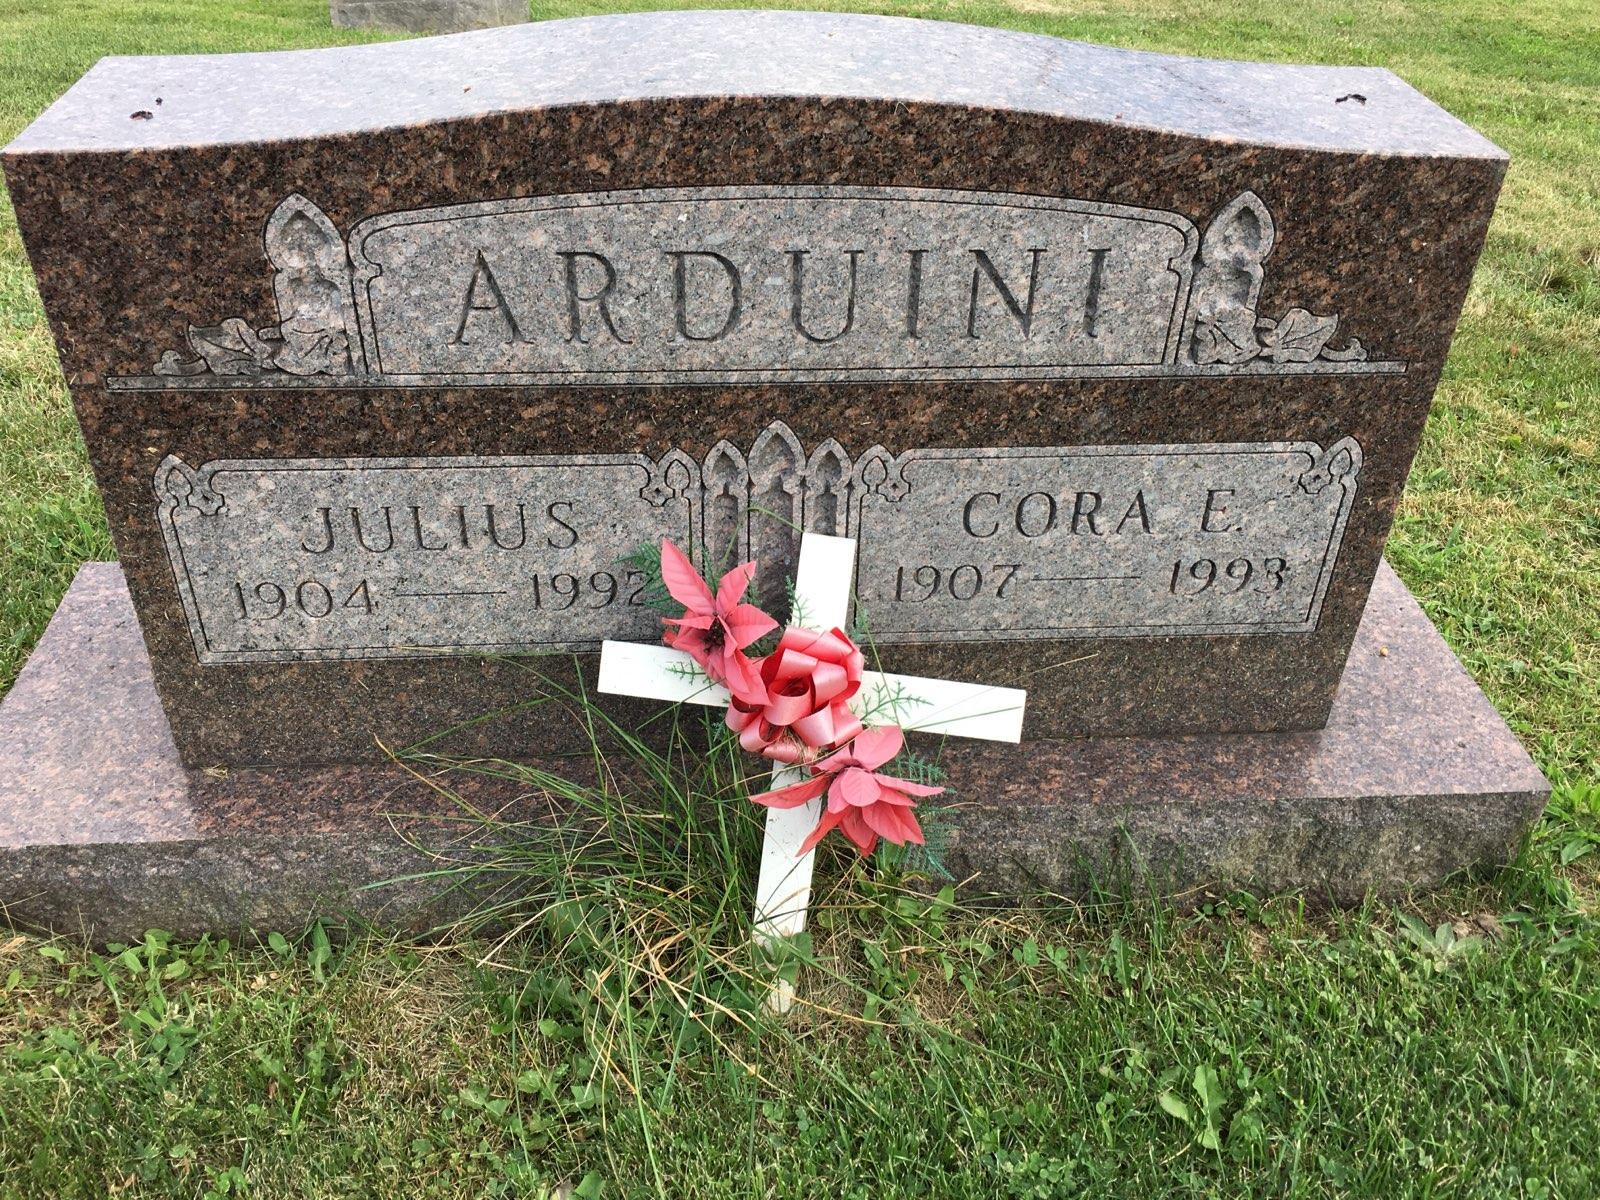upright: (0, 10, 1555, 926)
